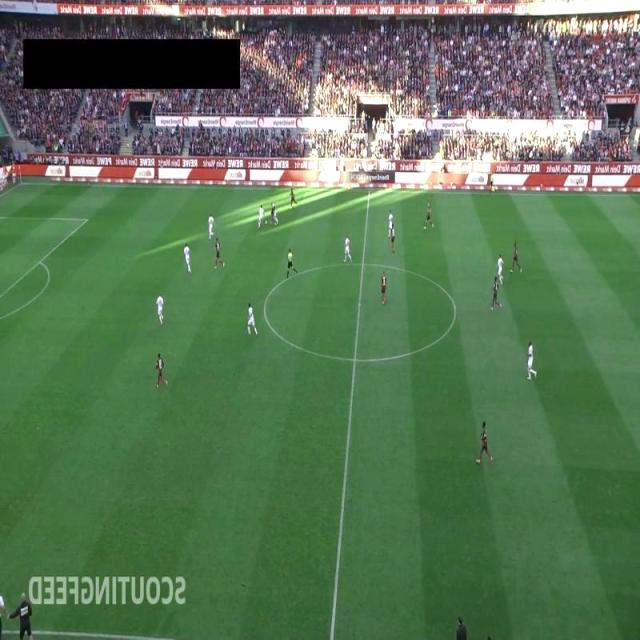bigarea_top_inner: (81, 213, 92, 224)
corner: (16, 179, 27, 190)
halfcircle_bottom: (351, 354, 362, 364)
halfcircle_top: (358, 258, 368, 269)
midline_top_intersection: (362, 185, 376, 197)
top_arc_area_intersection: (33, 255, 47, 269)
